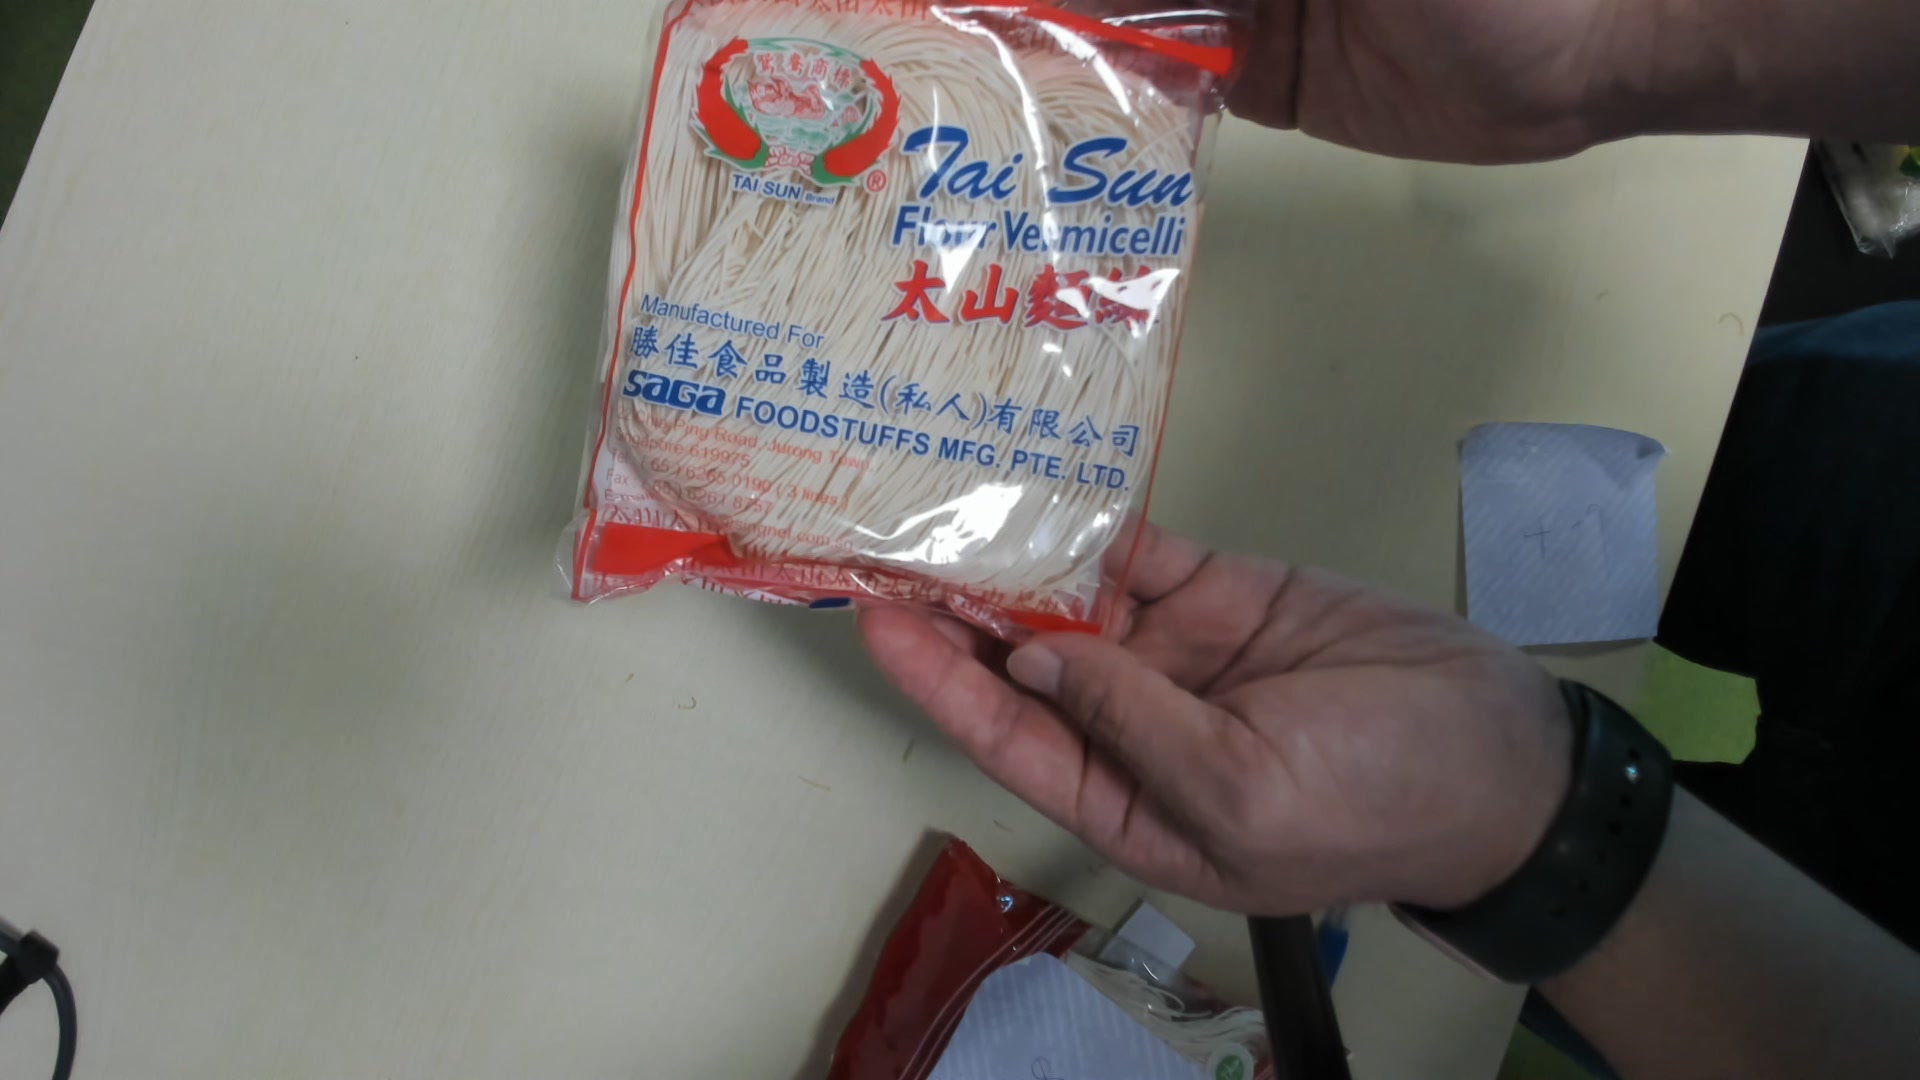BeeHoonVermicelli_100-199g_Halal_NonHealthy: (578, 5, 1237, 645)
